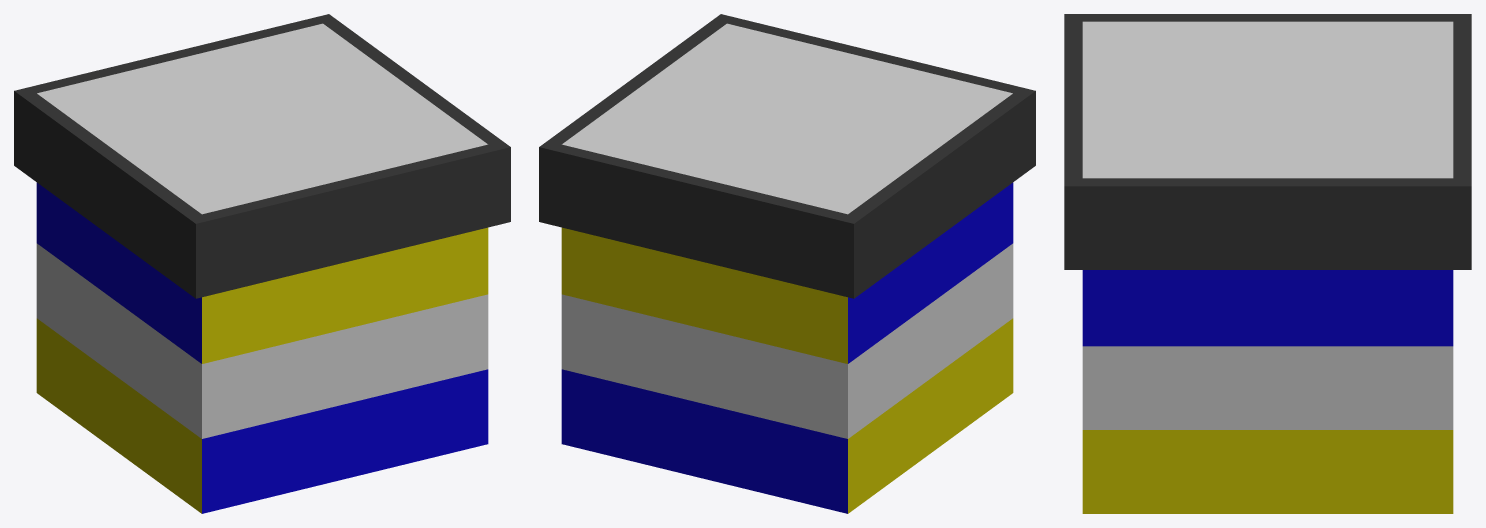
The model's file is Prop Box.fbx.
The picture shows the model from 3 angles, left to right: view 1: azimuth 30°, elevation 25°; view 2: azimuth 150°, elevation 25°; view 3: azimuth 270°, elevation 25°; orthographic projection. The views are drawn at different scales.
Parts seen in each view (by area): view 1: Prop Box 7; view 2: Prop Box 7; view 3: Prop Box 7.
Boxes of the visible parts, box(x1,y1,x2,y2) form: Prop Box 7: box(14, 14, 510, 513); Prop Box 7: box(539, 14, 1035, 513); Prop Box 7: box(1064, 14, 1471, 513).
Size of the model in its own units: 88 by 80 by 88.
